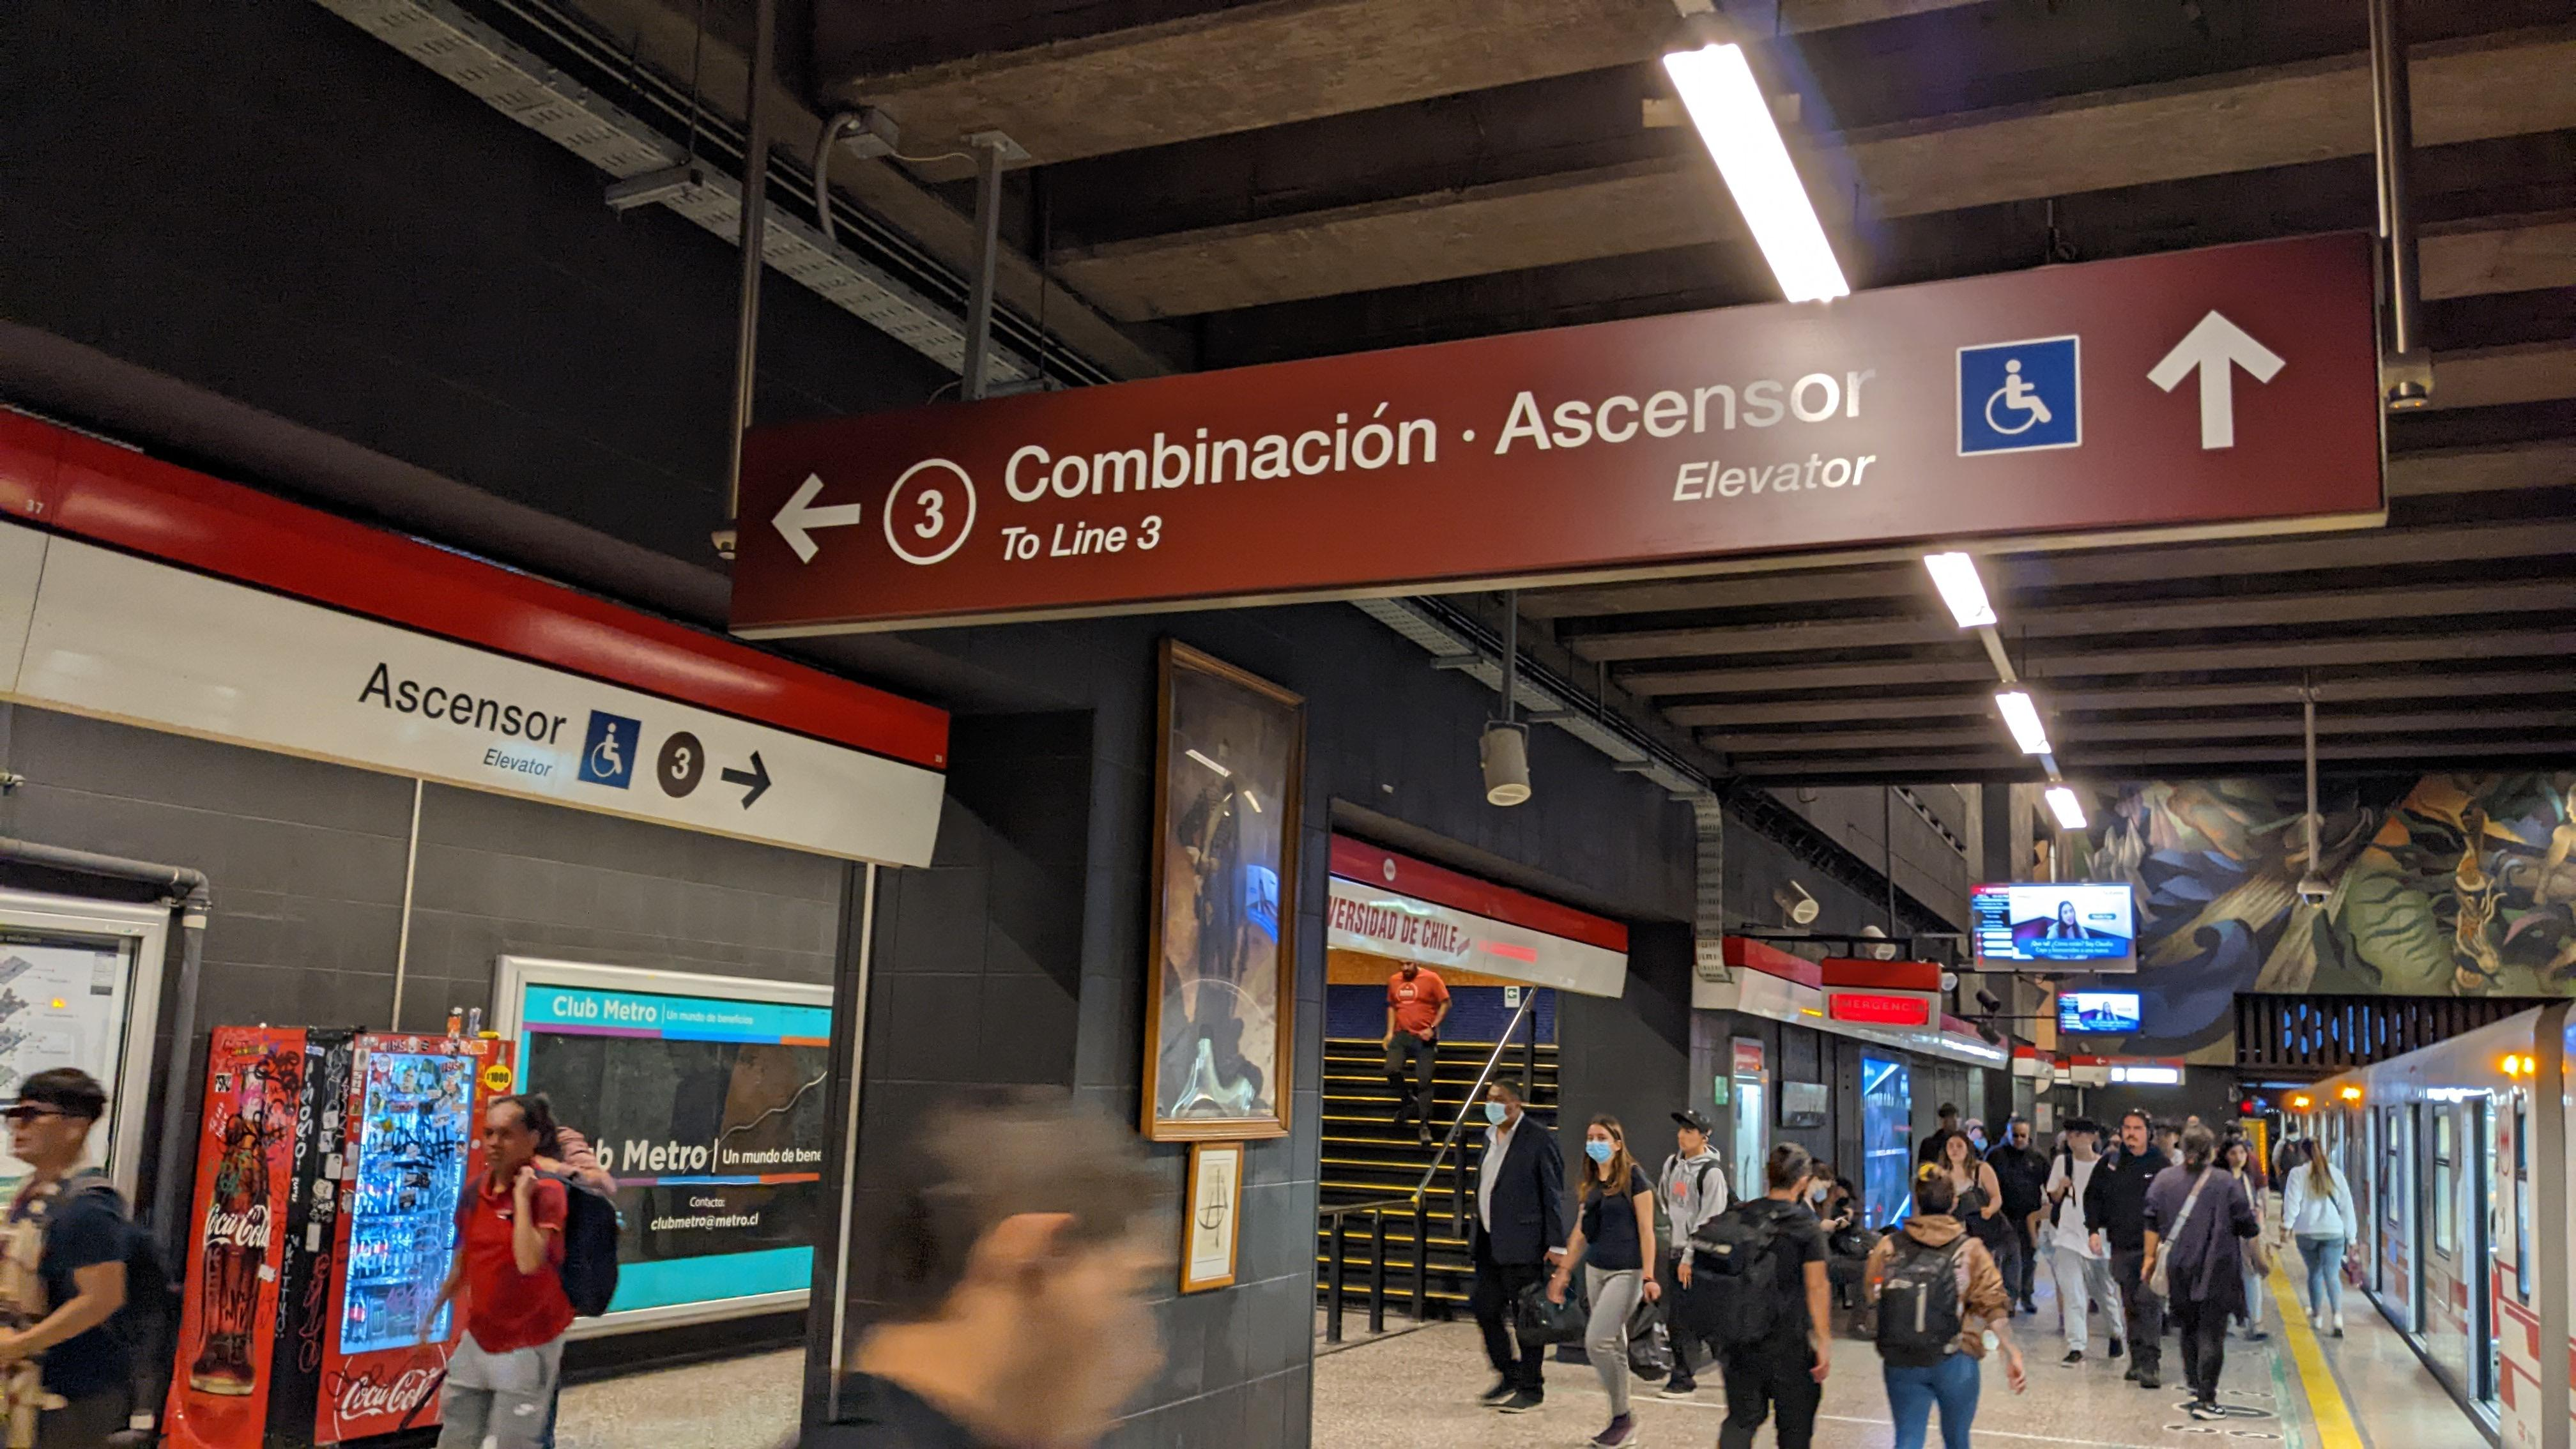handicapped symbol: (1983, 357, 2052, 437), (589, 718, 625, 778)
left arrow: (768, 469, 863, 568)
right arrow: (717, 748, 775, 812)
up arrow: (2143, 304, 2291, 455)
